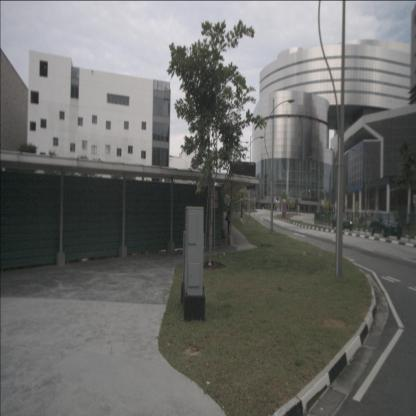human-pedestrian-adult: (226, 202, 233, 236), (228, 200, 230, 212), (223, 202, 225, 212)
vehicle-car: (369, 210, 403, 240), (332, 211, 353, 231)
